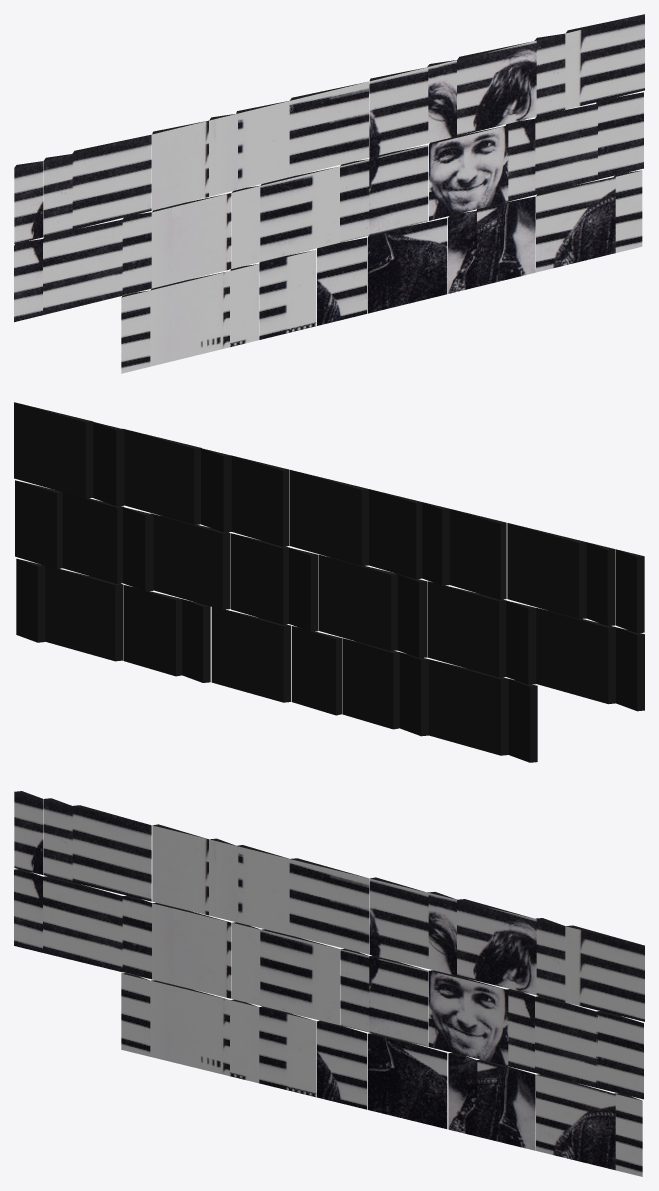
File: RotateWalls.fbx
3 views of the same model, one above another, from view 1: azimuth 30°, elevation 25°; view 2: azimuth 150°, elevation 25°; view 3: azimuth 330°, elevation 25° (orthographic).
Visible parts, largest first — view 1: RotWall; view 2: RotWall; view 3: RotWall.
Boxes of the visible parts, left/top/right/bottom form: RotWall: left=14, top=14, right=644, bottom=373; RotWall: left=14, top=402, right=644, bottom=762; RotWall: left=14, top=791, right=644, bottom=1176.
Size of the model in its own units: 2592 by 911 by 20.82.
